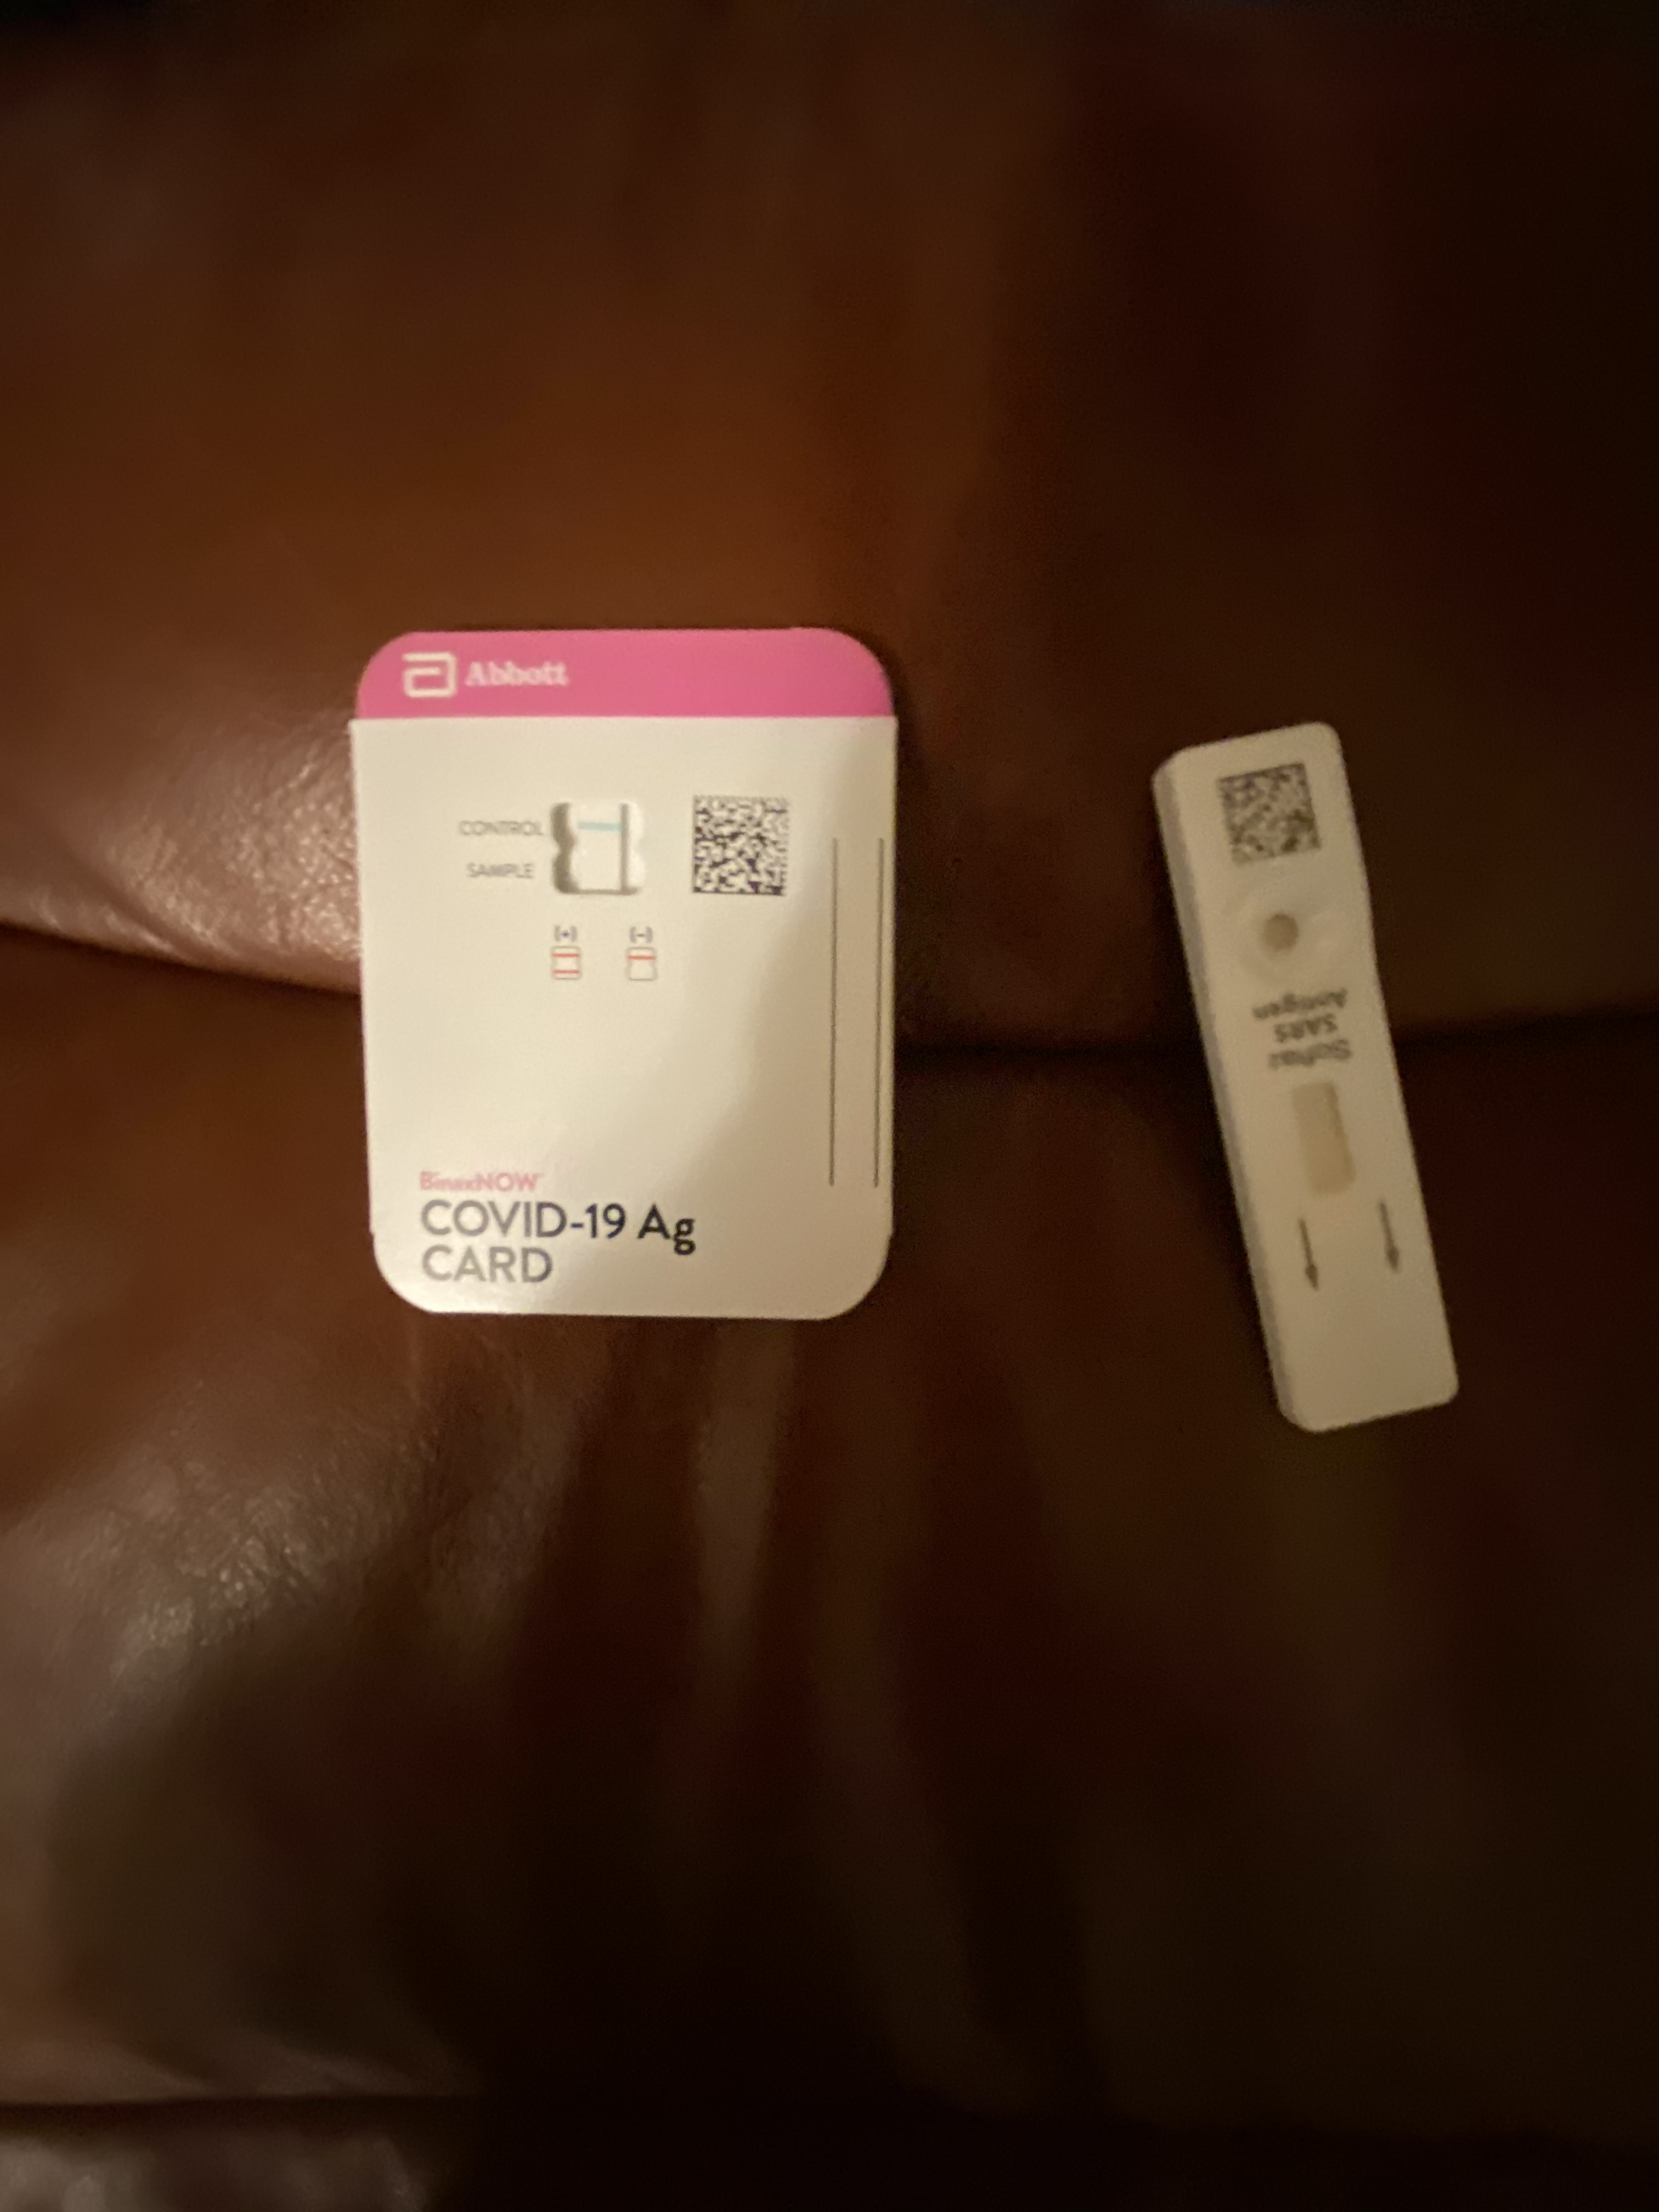binax: (350, 625, 917, 1336)
quidel: (1152, 719, 1476, 1446)
